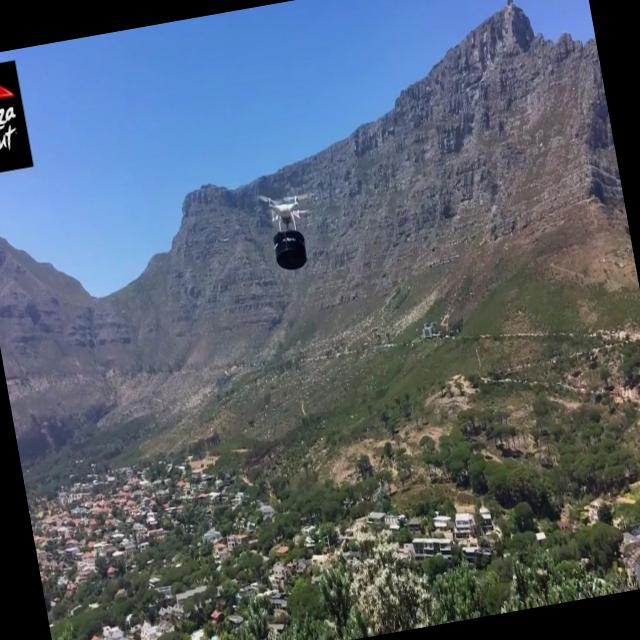drone: (256, 184, 322, 276)
